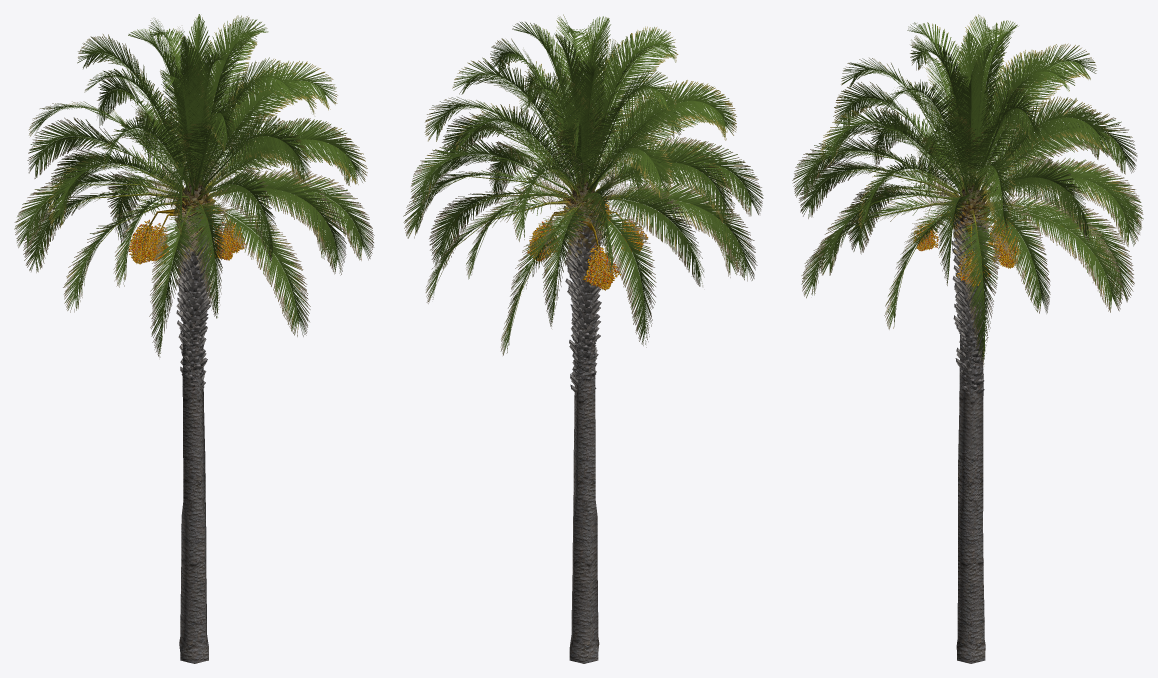
File: Phoenix canariensis HD_Urban 1 mat 100_LOD3.fbx
3 views of the same model, side by side, from view 1: azimuth 30°, elevation 25°; view 2: azimuth 150°, elevation 25°; view 3: azimuth 270°, elevation 25° (orthographic).
Parts seen in each view (by area): view 1: Phoenix_canariensis_HD; view 2: Phoenix_canariensis_HD; view 3: Phoenix_canariensis_HD.
Part boxes in pixels (x1,y1,x2,y2): Phoenix_canariensis_HD: (14,14,374,663); Phoenix_canariensis_HD: (403,14,763,663); Phoenix_canariensis_HD: (792,14,1143,663).
Size of the model in its own units: 7.84 by 15.43 by 7.87.
Materials: 23 (23 with a texture image).
